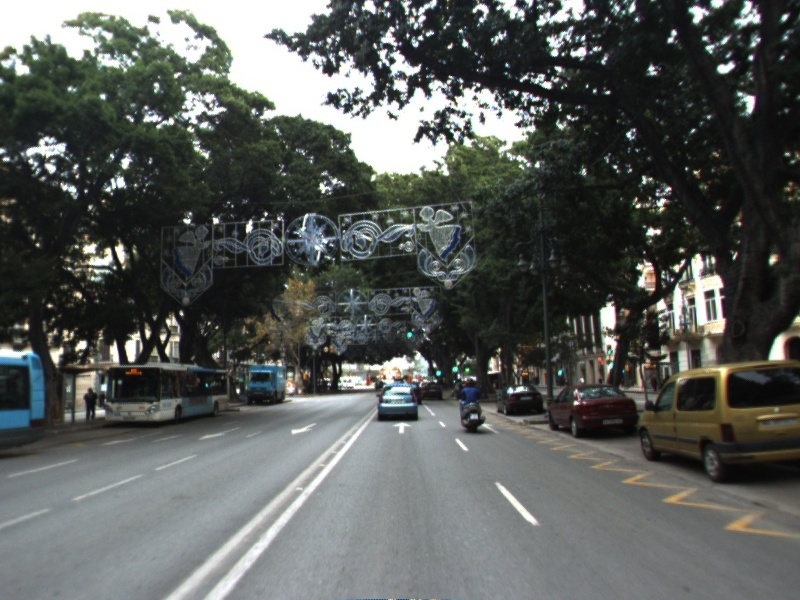STRAIGHT: (390, 420, 413, 435), (479, 422, 502, 435)
